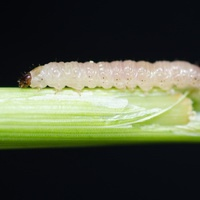insect: (27, 60, 199, 90)
